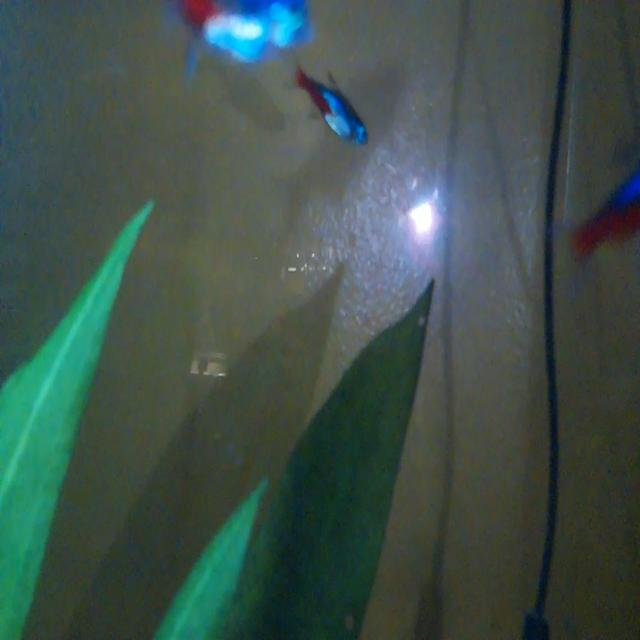fish: (288, 60, 374, 157)
